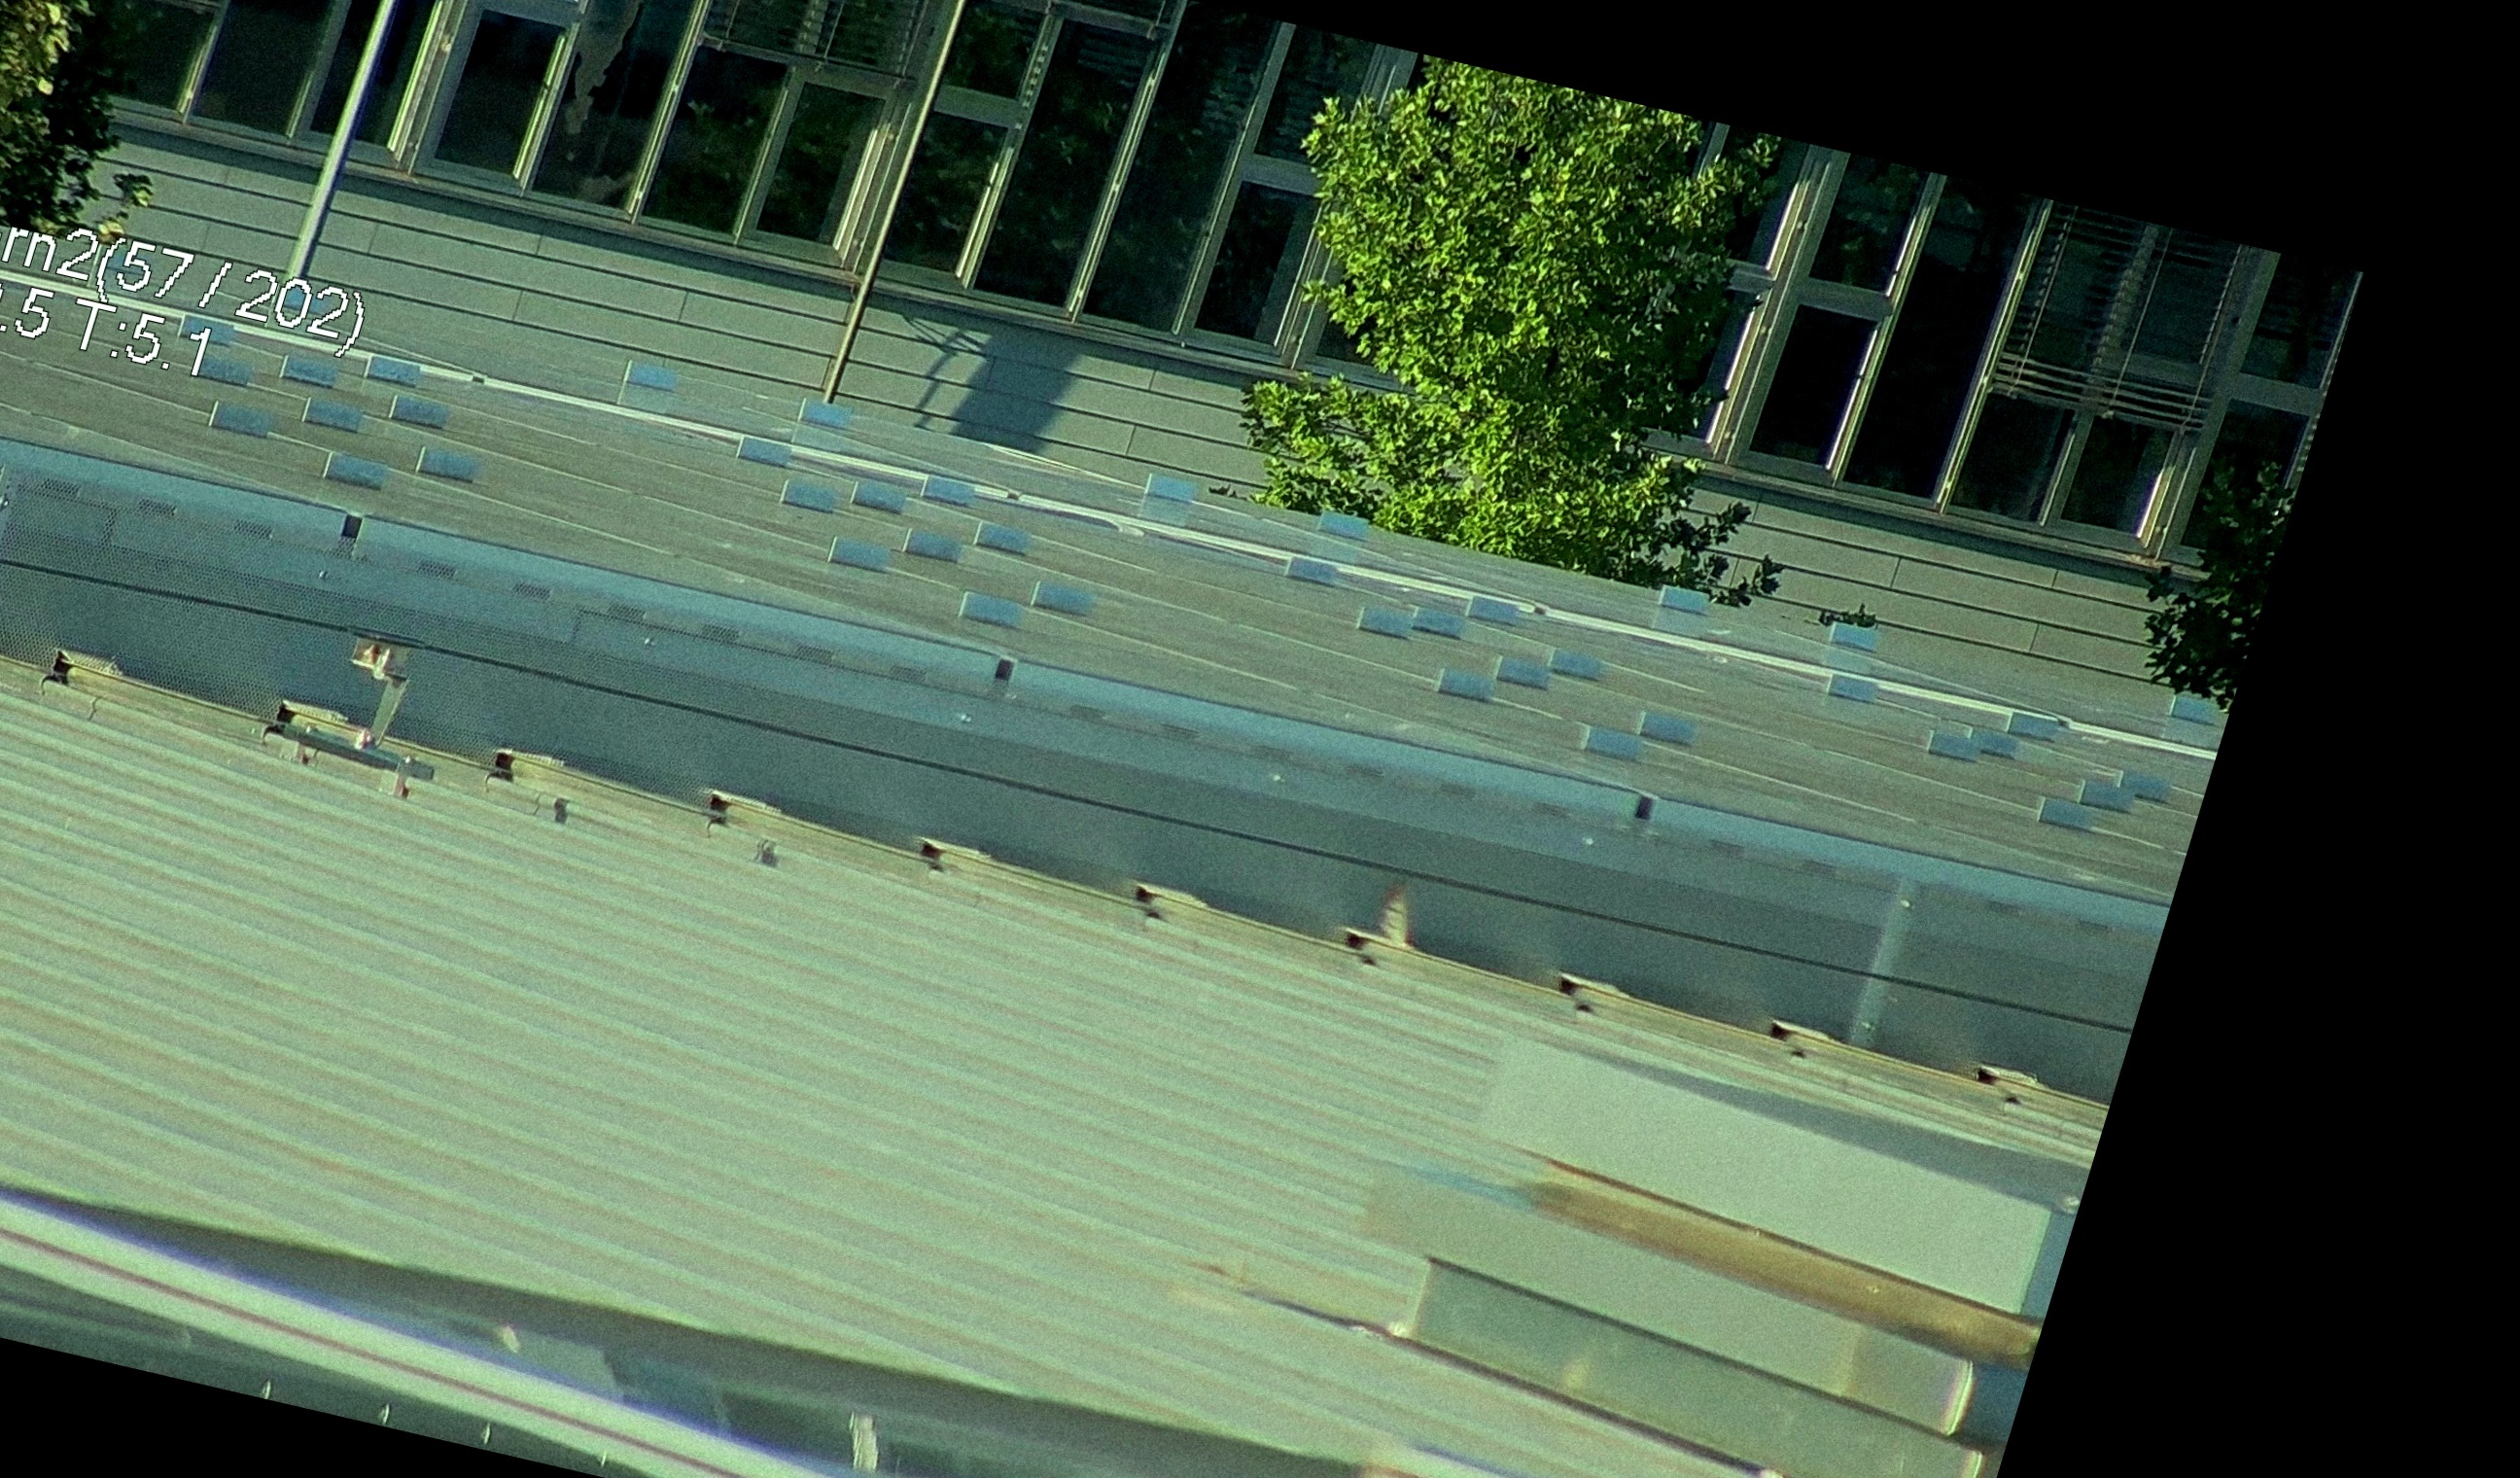Other: (1338, 860, 1449, 984)
